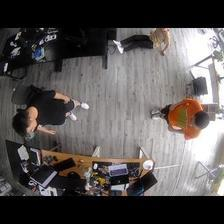fall: (113, 28, 173, 57)
normal: (13, 85, 88, 135), (151, 93, 209, 145)
